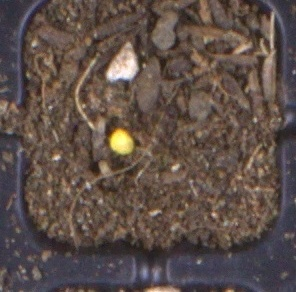chilli seed: (108, 127, 135, 155)
